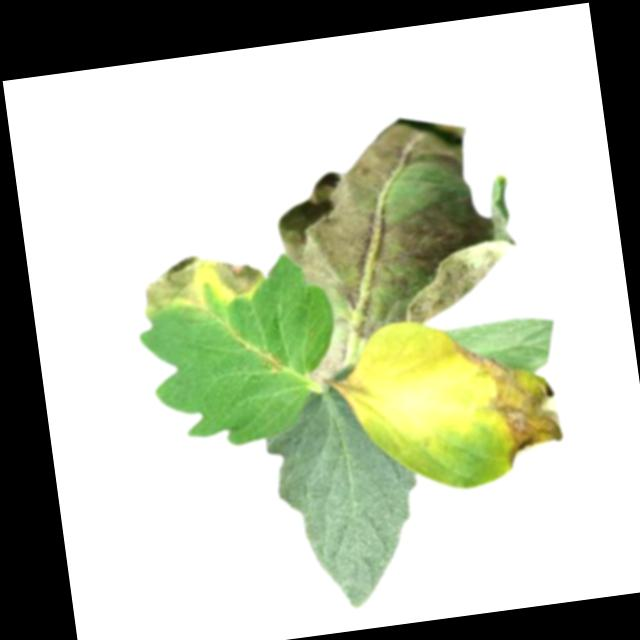Late_blight: (265, 105, 526, 347), (450, 319, 567, 472), (137, 247, 269, 323), (305, 340, 354, 388), (259, 345, 288, 377)
healthy: (259, 377, 432, 618)
